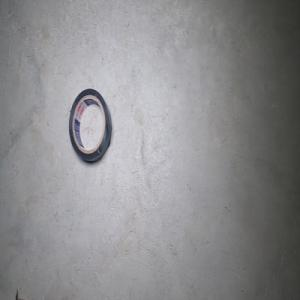Tape: (68, 88, 111, 162)
